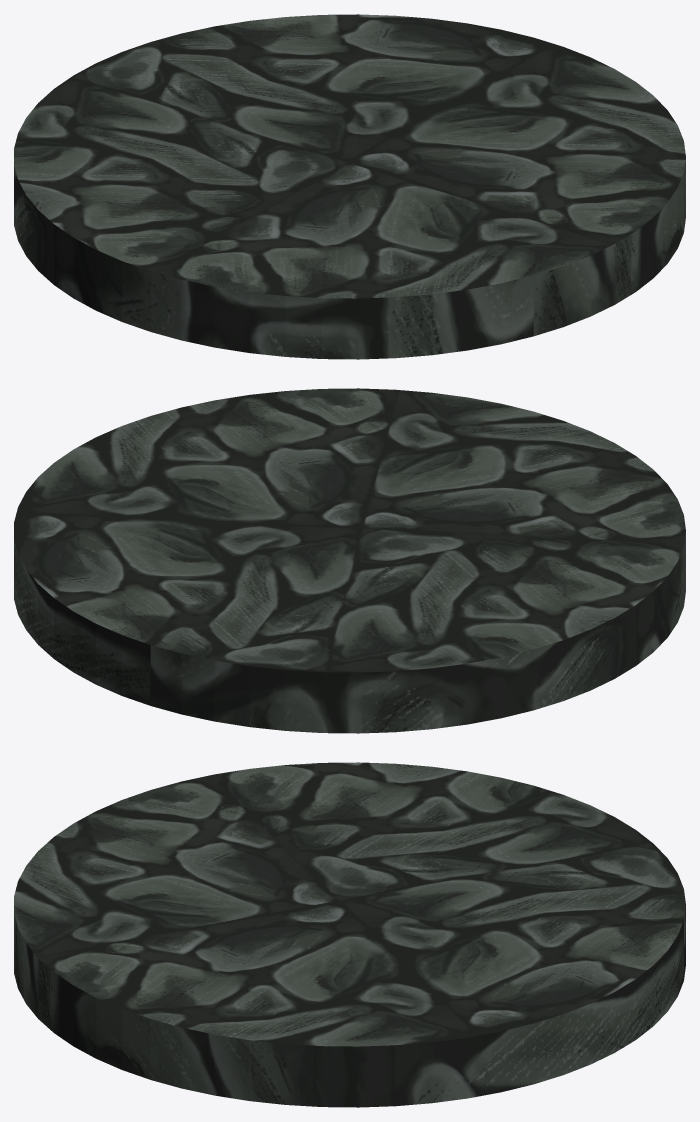
File: Final Floor.fbx
The picture shows the model from 3 angles, top to bottom: view 1: azimuth 30°, elevation 25°; view 2: azimuth 150°, elevation 25°; view 3: azimuth 270°, elevation 25°; orthographic projection.
Parts seen in each view (by area): view 1: Cylinder; view 2: Cylinder; view 3: Cylinder.
Boxes of the visible parts, bbox=[...] form: Cylinder: bbox=[14, 14, 685, 359]; Cylinder: bbox=[14, 388, 685, 733]; Cylinder: bbox=[14, 762, 685, 1107].
Size of the model in its own units: 9996 by 1000 by 9992.
